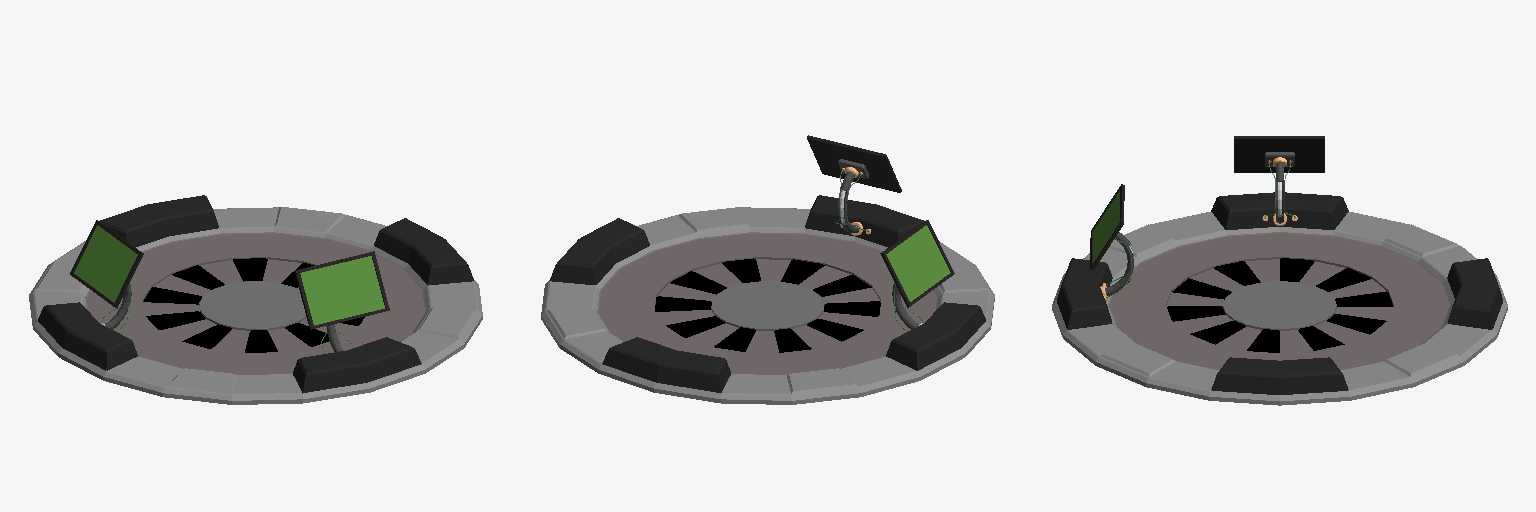
File: landing_pad_2.obj
3 views of the same model, side by side, from view 1: azimuth 30°, elevation 25°; view 2: azimuth 150°, elevation 25°; view 3: azimuth 270°, elevation 25° (orthographic).
Visible parts, largest first — view 1: Floor, OuterRing, Bumps, MiddlePlates, MIddlePlate, TV_Screen_002, TV_Screen_001, Bottom, TV_Frame_002, TV_Frame_001; view 2: Floor, OuterRing, Bumps, MiddlePlates, MIddlePlate, TV_Screen_001, TV_Frame_002, Bottom, TV_Frame_001; view 3: Floor, OuterRing, Bumps, MiddlePlates, MIddlePlate, TV_Frame_001, Bottom, TV_Screen_002, TV_Frame_002.
Boxes of the visible parts, box(x1,y1,x2,y2) form: Floor: box(85, 232, 426, 374); OuterRing: box(29, 207, 482, 400); Bumps: box(38, 195, 473, 392); MiddlePlates: box(143, 258, 364, 352); MIddlePlate: box(199, 281, 306, 330); TV_Screen_002: box(300, 256, 384, 325); TV_Screen_001: box(74, 225, 137, 302); Bottom: box(29, 298, 482, 404); TV_Frame_002: box(295, 251, 389, 329); TV_Frame_001: box(70, 220, 143, 307); Floor: box(597, 232, 938, 374); OuterRing: box(541, 207, 994, 400); Bumps: box(550, 195, 985, 392); MiddlePlates: box(655, 258, 880, 352); MIddlePlate: box(711, 281, 824, 330); TV_Screen_001: box(886, 225, 950, 301); TV_Frame_002: box(807, 135, 901, 192); Bottom: box(541, 298, 994, 404); TV_Frame_001: box(880, 220, 954, 307); Floor: box(1108, 232, 1451, 370); OuterRing: box(1052, 212, 1507, 400); Bumps: box(1057, 192, 1502, 394); MiddlePlates: box(1167, 258, 1393, 352); MIddlePlate: box(1223, 281, 1336, 330); TV_Frame_001: box(1234, 136, 1324, 172); Bottom: box(1052, 307, 1507, 405); TV_Screen_002: box(1093, 191, 1119, 262); TV_Frame_002: box(1090, 184, 1124, 270).
Bounding box in the file's own units: 100 × 25.74 × 100.